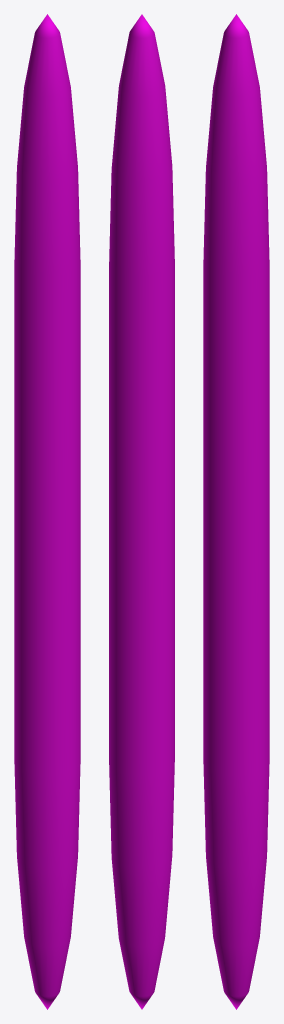
File: laser_pink.fbx
3 views of the same model, side by side, from view 1: azimuth 90°, elevation 25°; view 2: azimuth 150°, elevation 25°; view 3: azimuth 270°, elevation 25° (orthographic).
Visible parts, largest first — view 1: laser_pink; view 2: laser_pink; view 3: laser_pink.
Part boxes in pixels (box(x1,y1,x2,y2)): laser_pink: box(14, 14, 80, 1009); laser_pink: box(109, 14, 174, 1009); laser_pink: box(203, 14, 269, 1009).
Bounding box in the file's own units: 0.2408 × 4 × 0.2408.
